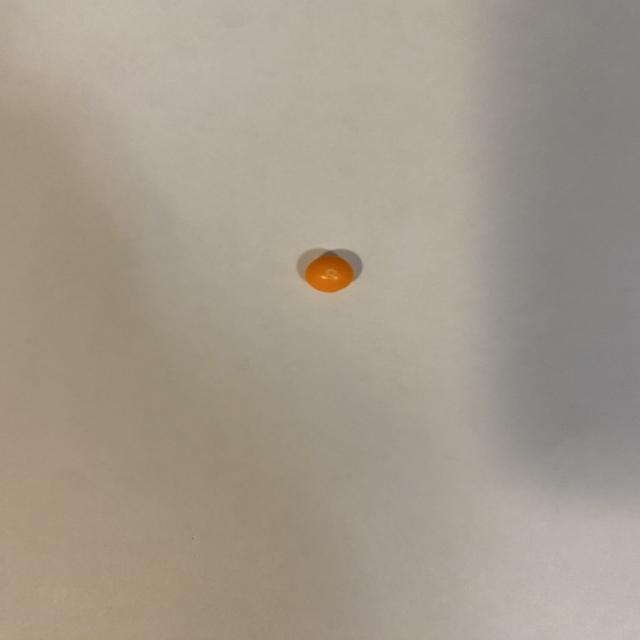smartie: (305, 256, 353, 292)
